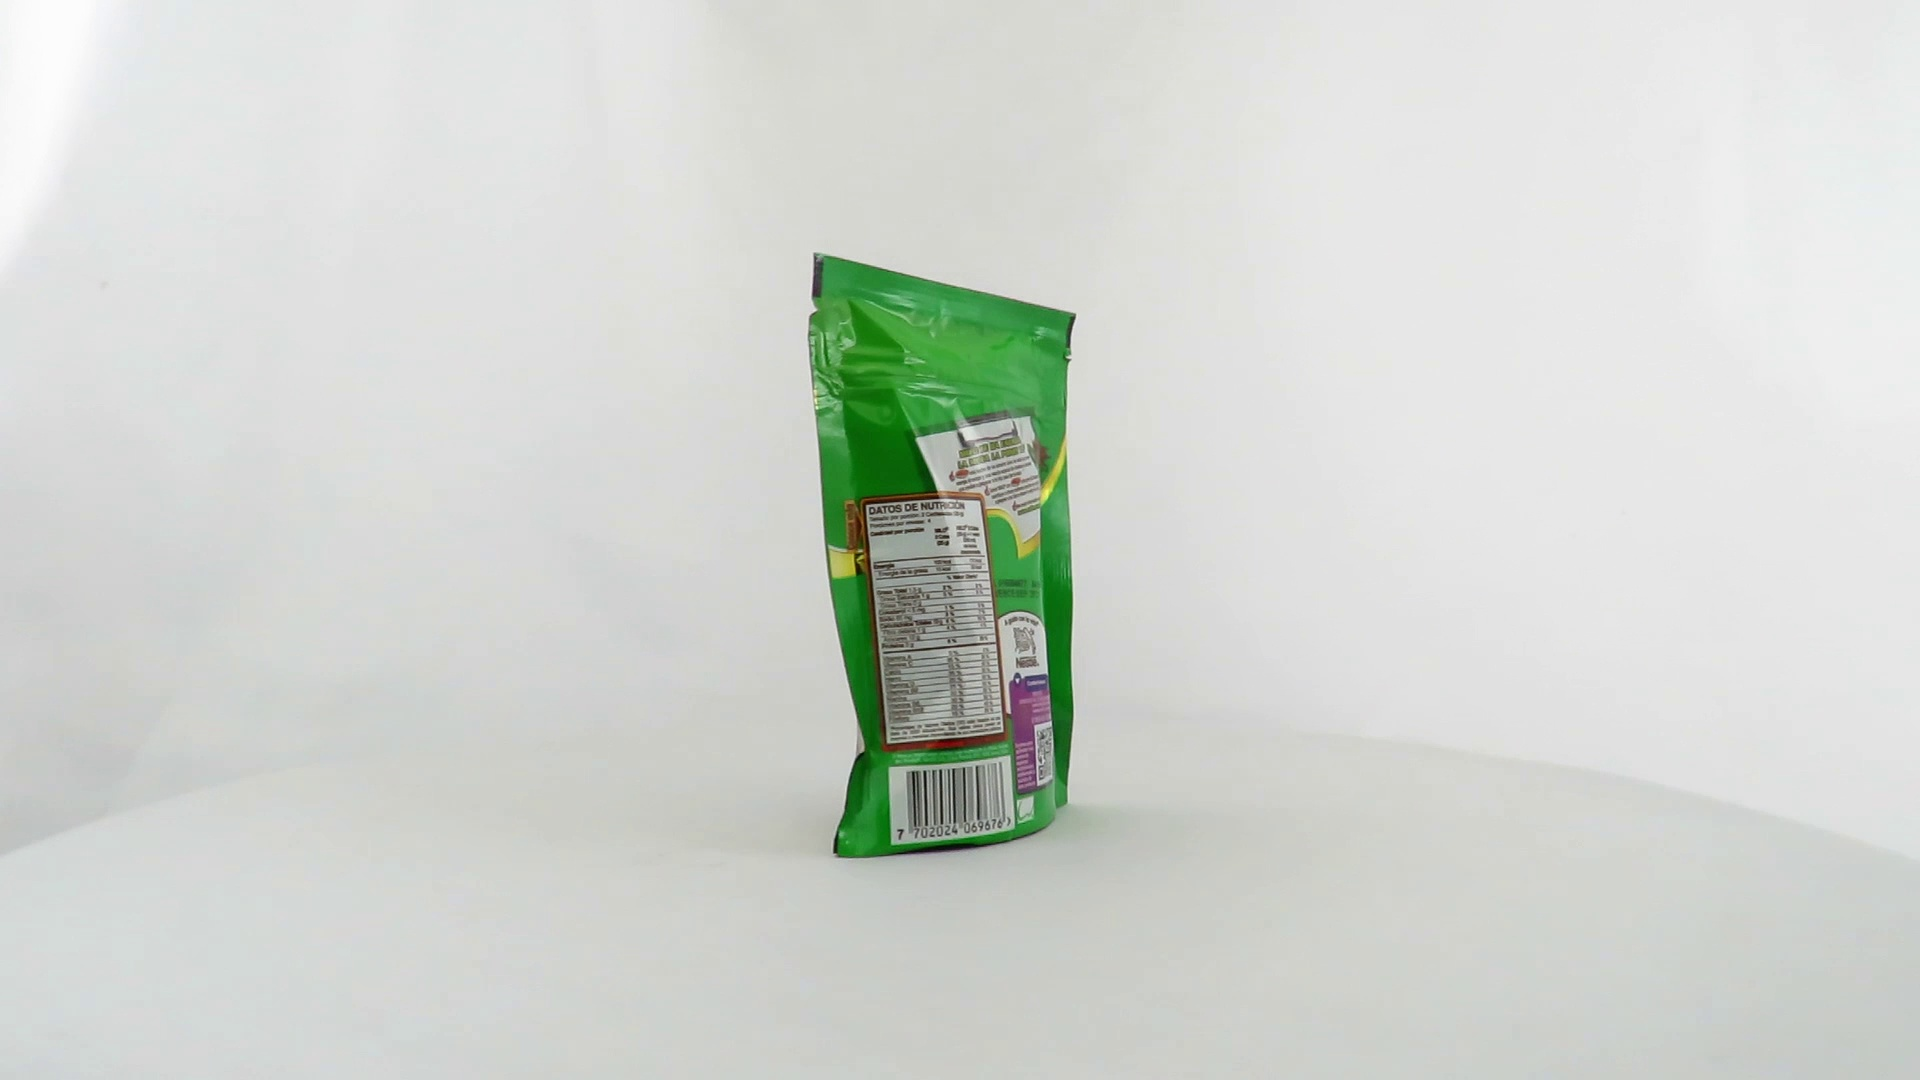COL0170203DYP10000: (802, 247, 1137, 865)
